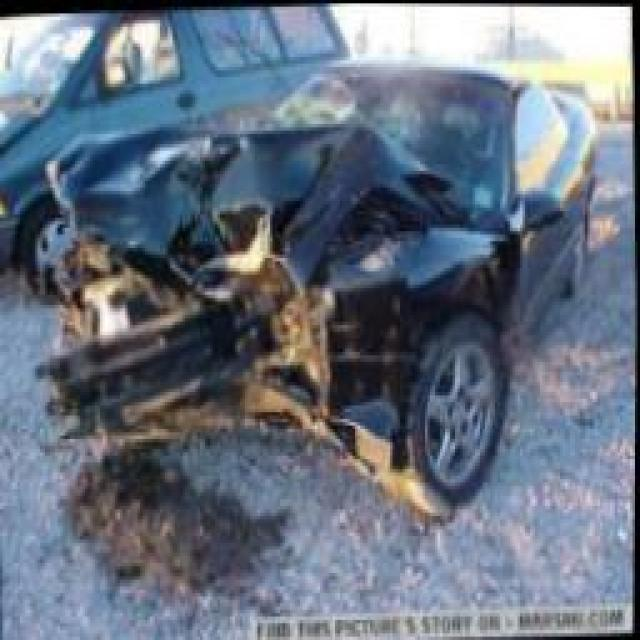Bonnet: (91, 115, 448, 302)
Bumper: (44, 279, 340, 463)
